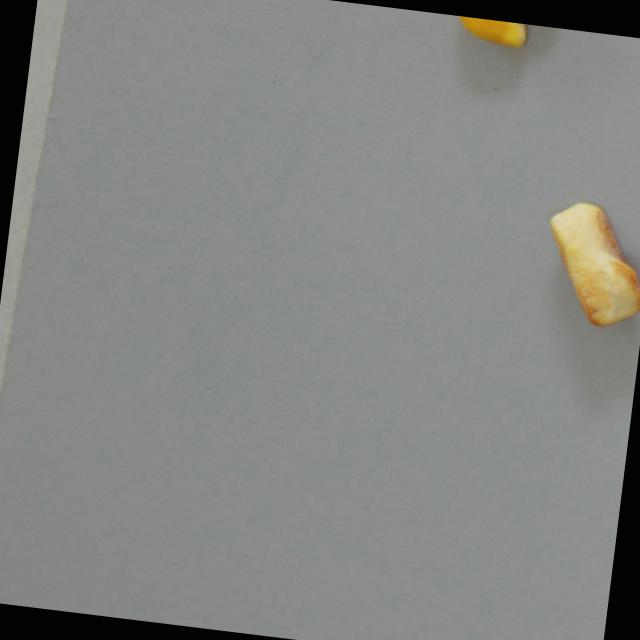dañado: (535, 195, 640, 333)
no_canjicado: (448, 14, 554, 53)
